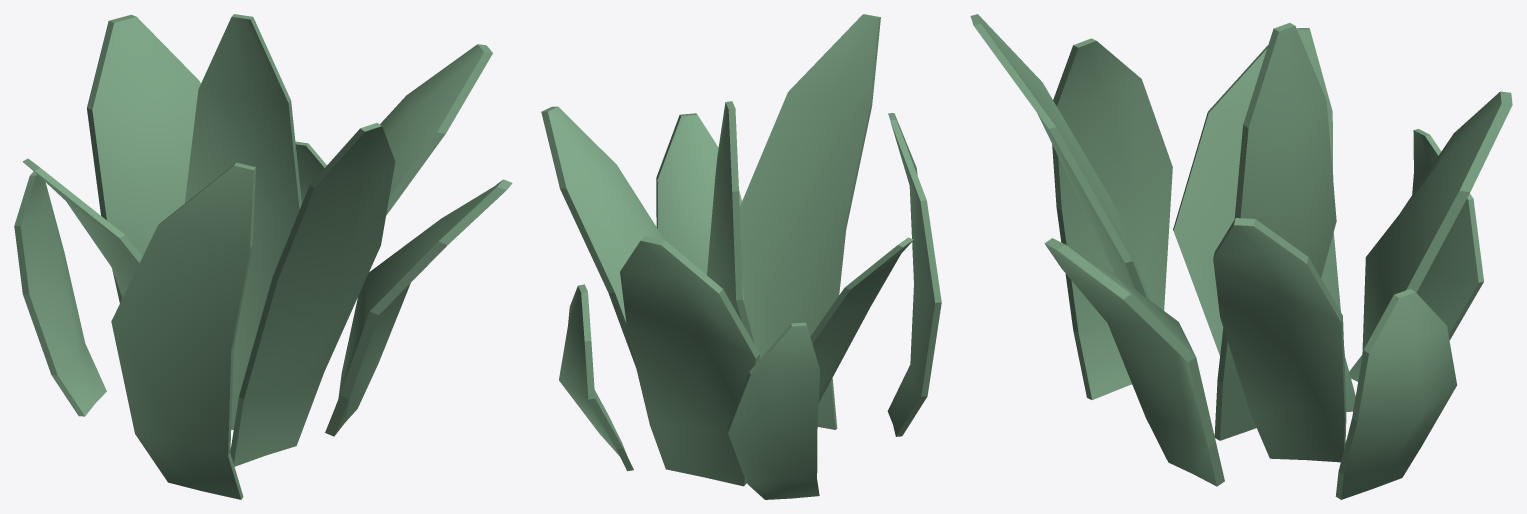
The model's file is a_z3_grass_s.fbx.
3 views of the same model, side by side, from view 1: azimuth 30°, elevation 25°; view 2: azimuth 150°, elevation 25°; view 3: azimuth 270°, elevation 25° (orthographic). The views are drawn at different scales.
Visible parts, largest first — view 1: a_z3_grass_s; view 2: a_z3_grass_s; view 3: a_z3_grass_s.
Boxes of the visible parts, x1,y1,x2,y2 form: a_z3_grass_s: (14,14,512,499); a_z3_grass_s: (541,14,941,499); a_z3_grass_s: (970,14,1512,499).
Bounding box in the file's own units: 39.24 × 33.71 × 39.36.
